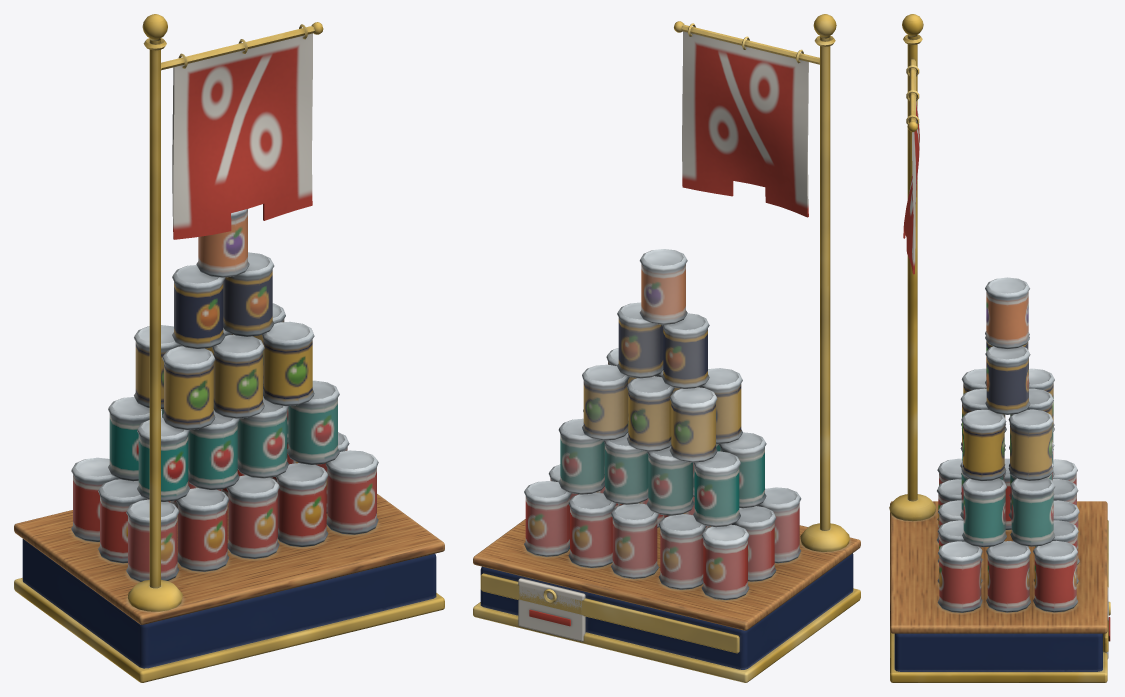
The model's file is can-pyramid.fbx.
3 renders of one model, left to right at view 1: azimuth 30°, elevation 25°; view 2: azimuth 150°, elevation 25°; view 3: azimuth 270°, elevation 25°, orthographic. The views are drawn at different scales.
Visible parts, largest first — view 1: Body, Anim Sway; view 2: Body, Anim Sway; view 3: Body, Anim Sway.
Boxes of the visible parts, bbox=[...] form: Body: bbox=[14, 14, 444, 682]; Anim Sway: bbox=[172, 24, 312, 239]; Body: bbox=[473, 14, 860, 682]; Anim Sway: bbox=[682, 23, 808, 217]; Body: bbox=[889, 14, 1110, 682]; Anim Sway: bbox=[903, 65, 919, 274].
Size of the model in its own units: 0.66 by 1.35 by 0.4888.
